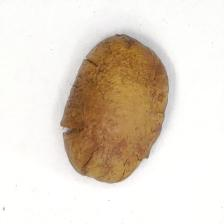NG: (74, 144, 145, 181), (61, 118, 84, 138)
